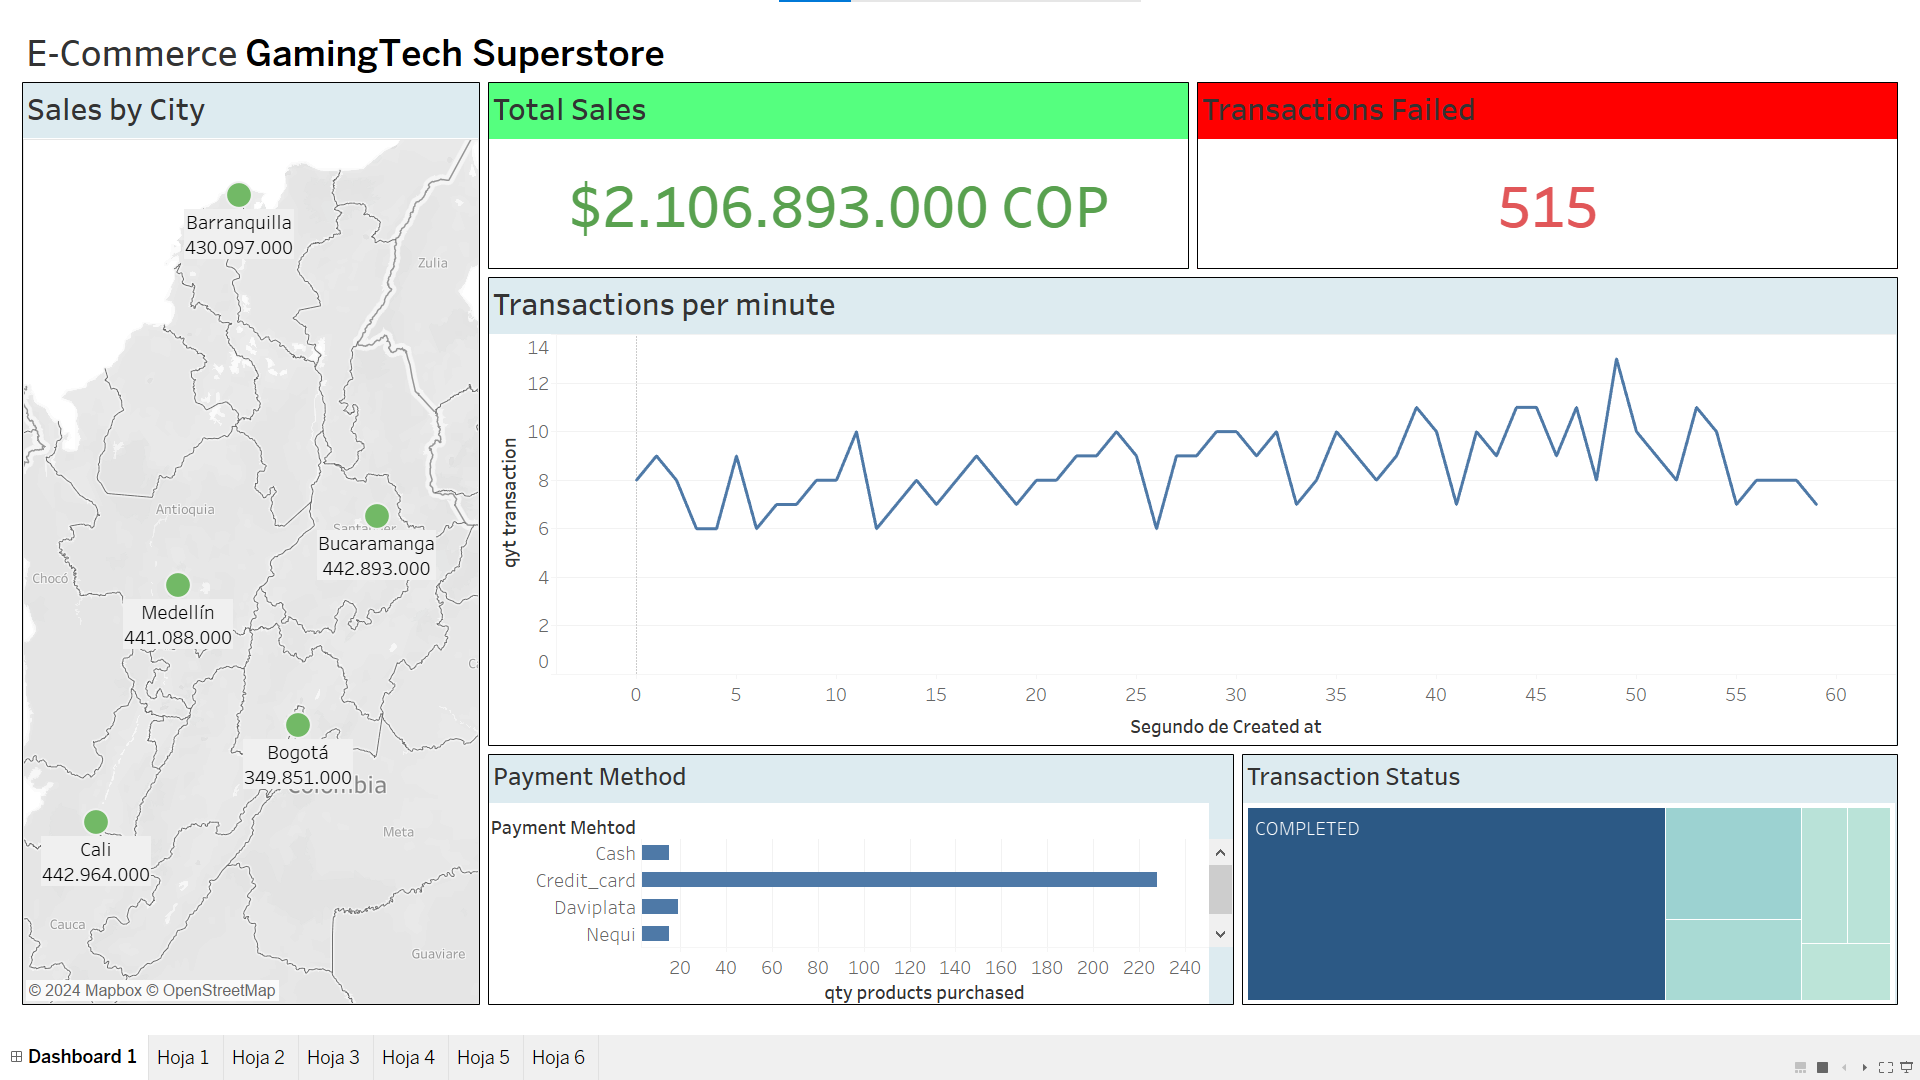

The page's visual inventory and layout, read from the dashboard file:
{"tool":"tableau","page":{"name":"Dashboard 1","canvas":[1900,1000],"ordinal":0},"visuals":[{"type":"title","box":[8,8,1884,53]},{"type":"worksheet","title":"Hoja 1","mark":"Automatic","box":[8,61,466.5,931]},{"type":"worksheet","title":"Hoja 5","mark":"Automatic","box":[474.5,61,708.8,194.5]},{"type":"worksheet","title":"Hoja 6","mark":"Automatic","box":[1183.2,61,708.8,194.5]},{"type":"worksheet","title":"Hoja 3","mark":"Automatic","rows":["purchase_ID"],"cols":["Created_at"],"box":[474.5,255.5,1417.5,477.5]},{"type":"worksheet","title":"Hoja 4","mark":"Automatic","rows":["Payment_Mehtod"],"cols":["purchase_ID"],"box":[474.5,733,753.5,259]},{"type":"worksheet","title":"Hoja 2","mark":"Automatic","box":[1228,733,664,259]}]}

Visuals, with their boxes in screenshot pixels (x1, y1, x2, y2):
title: [13, 23, 1890, 76]
"Hoja 1" worksheet: [13, 76, 478, 1004]
"Hoja 5" worksheet: [478, 76, 1184, 270]
"Hoja 6" worksheet: [1184, 76, 1890, 270]
"Hoja 3" worksheet: [478, 270, 1890, 745]
"Hoja 4" worksheet: [478, 745, 1229, 1004]
"Hoja 2" worksheet: [1229, 745, 1890, 1004]
